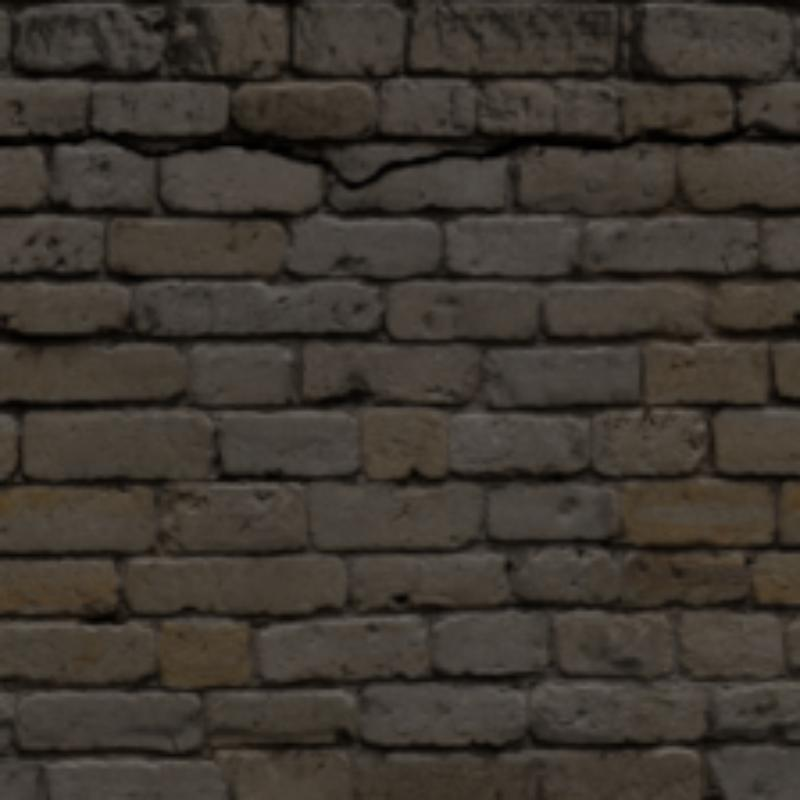pothole: (1, 123, 798, 187)
